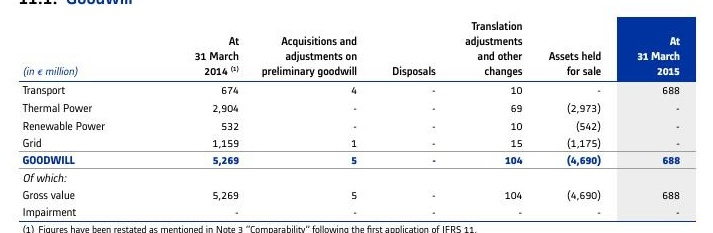table: (0, 0, 713, 233)
